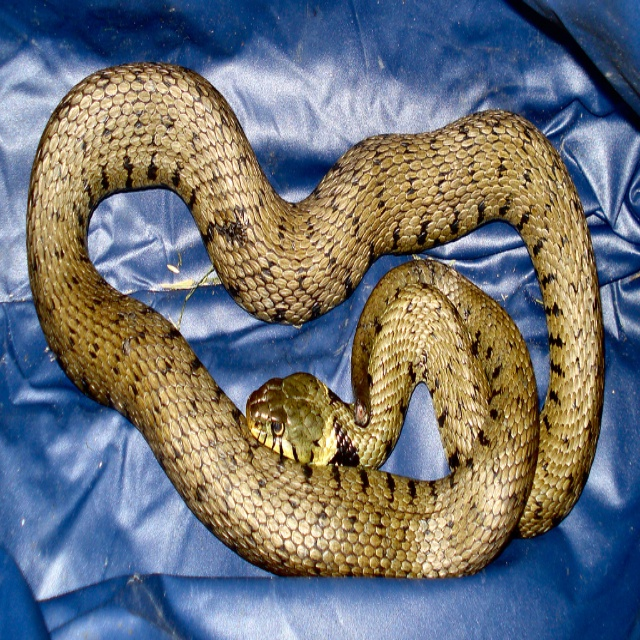Snake: (10, 68, 640, 585)
